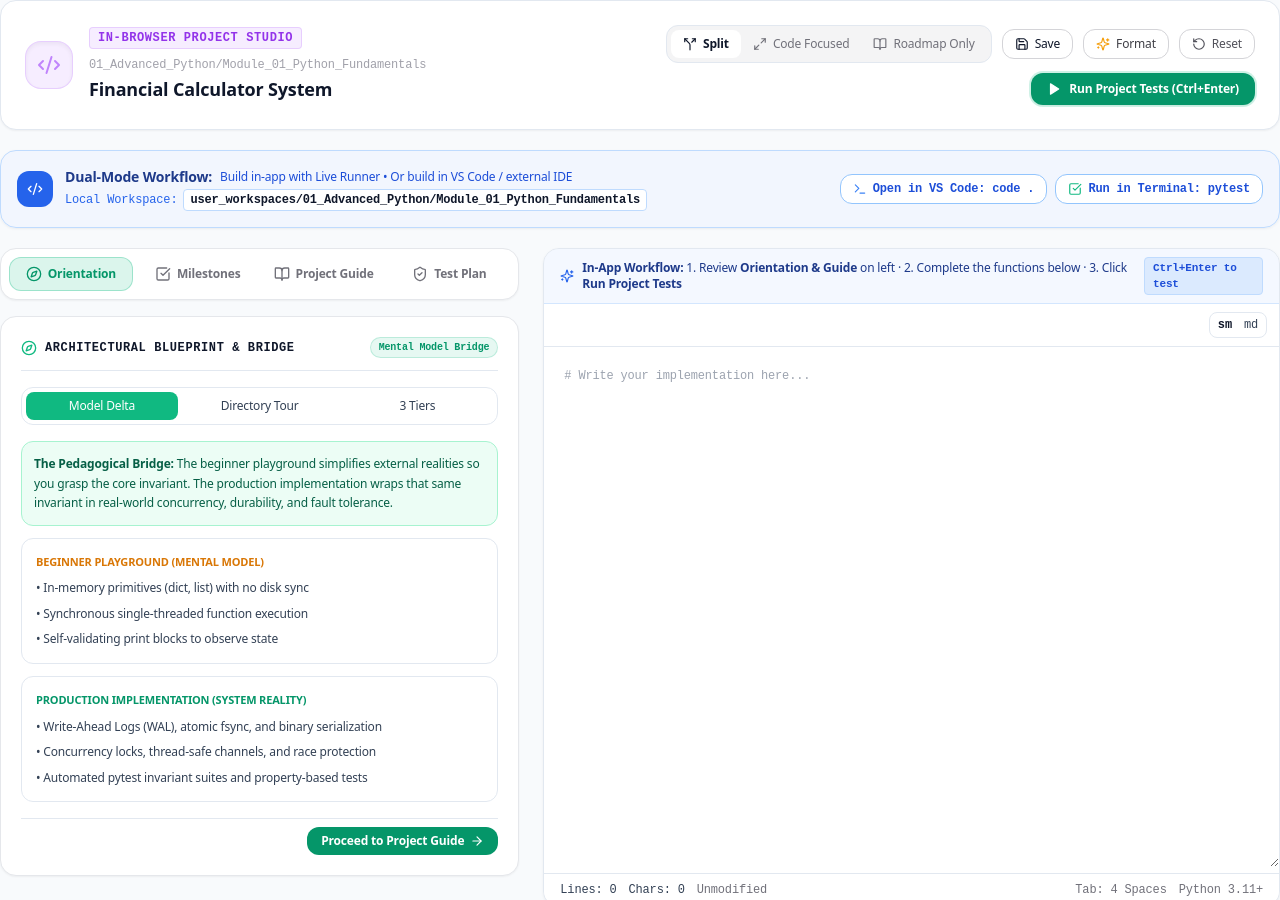
ProjectStudio Component › switches between Orientation, Milestones, Project Guide, and Test Plan tabs
Step 1. Click the button "Project Guide" → (324, 274), box x1=263 y1=258 x2=384 y2=290
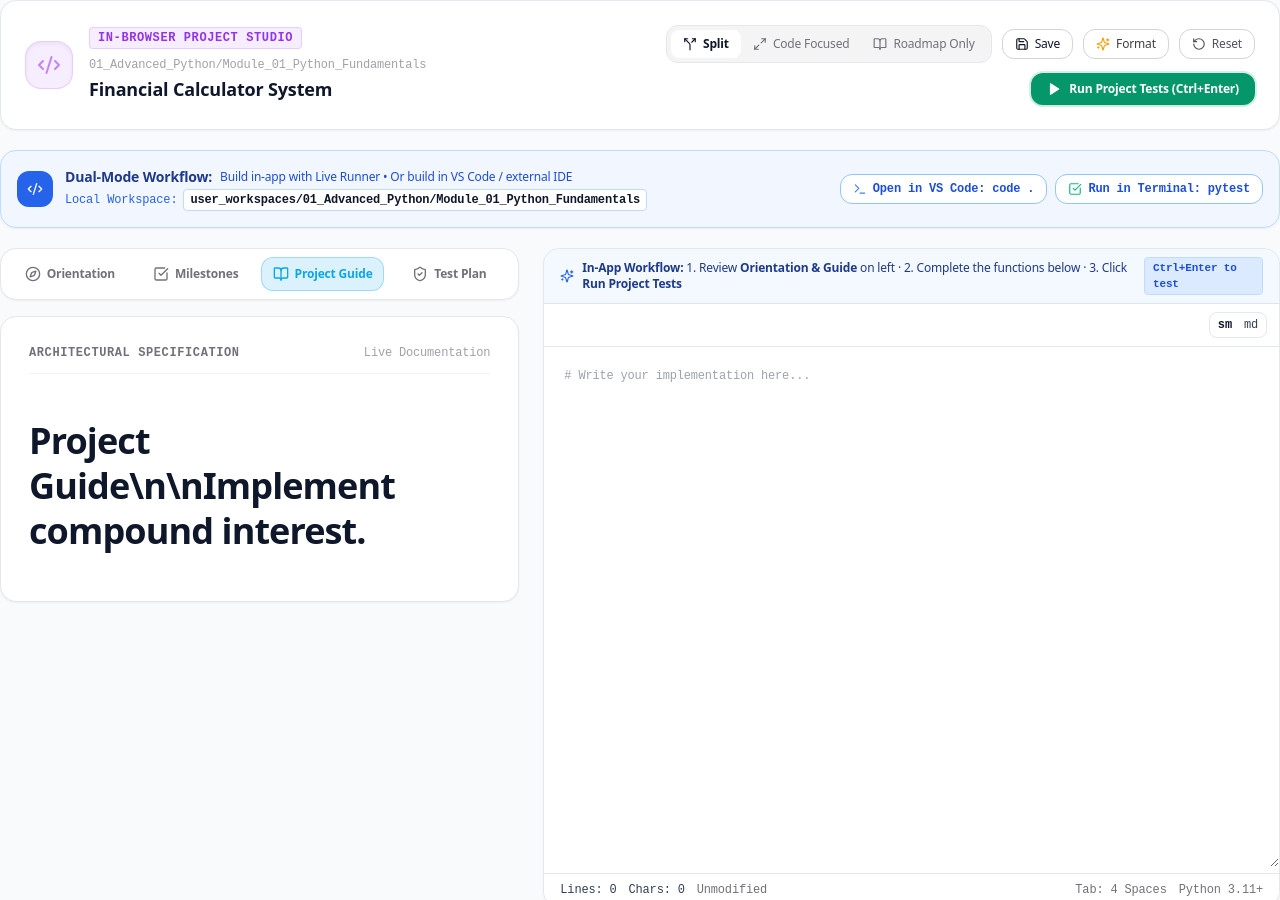
Now the heading "Project Guide\\n\\nImplement compound interest." is shown, box x1=29 y1=416 x2=395 y2=555
Step 2. Click the button "Test Plan" → (449, 274), box x1=388 y1=258 x2=510 y2=290
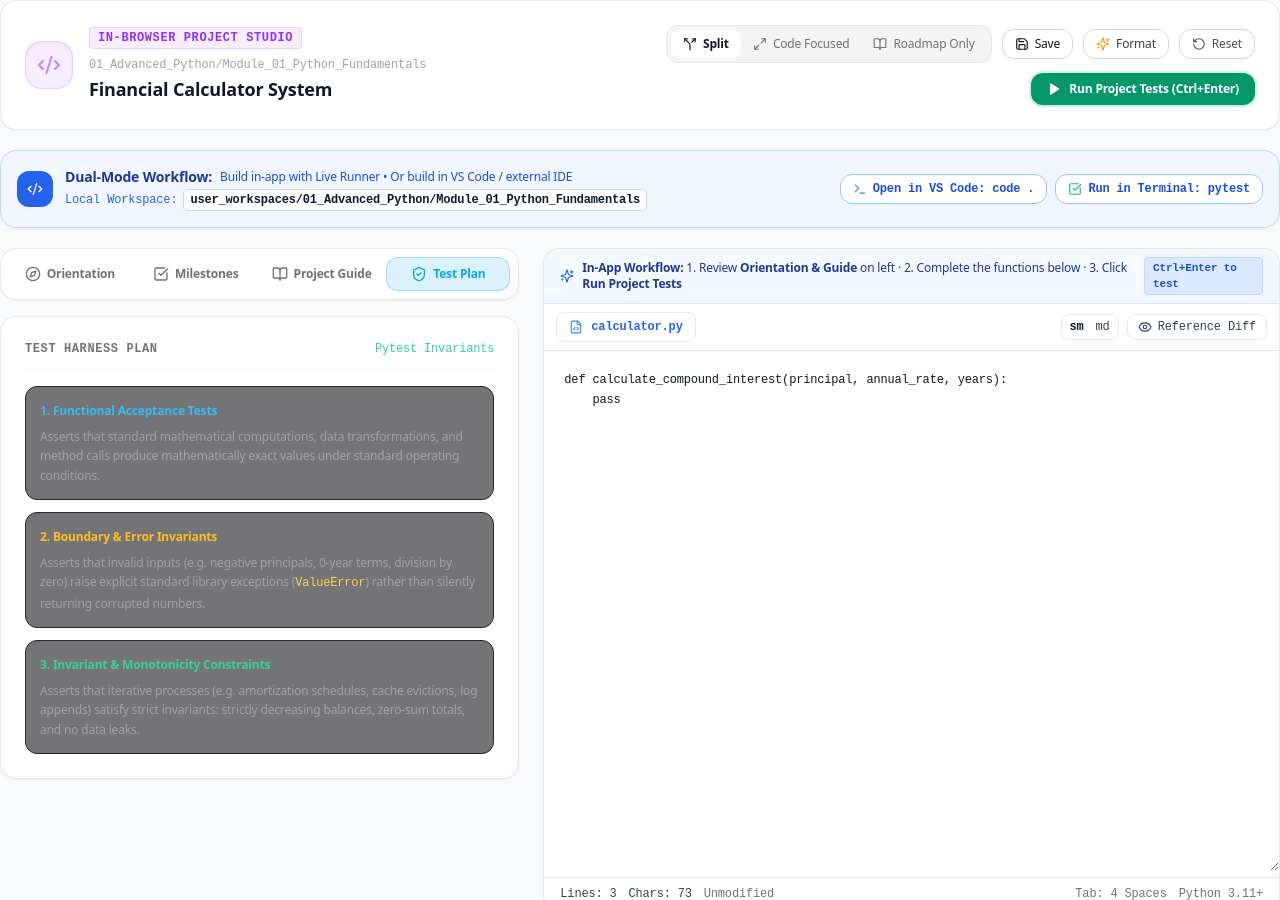
Now the text "Test Harness Plan" is shown, box x1=25 y1=341 x2=158 y2=357
